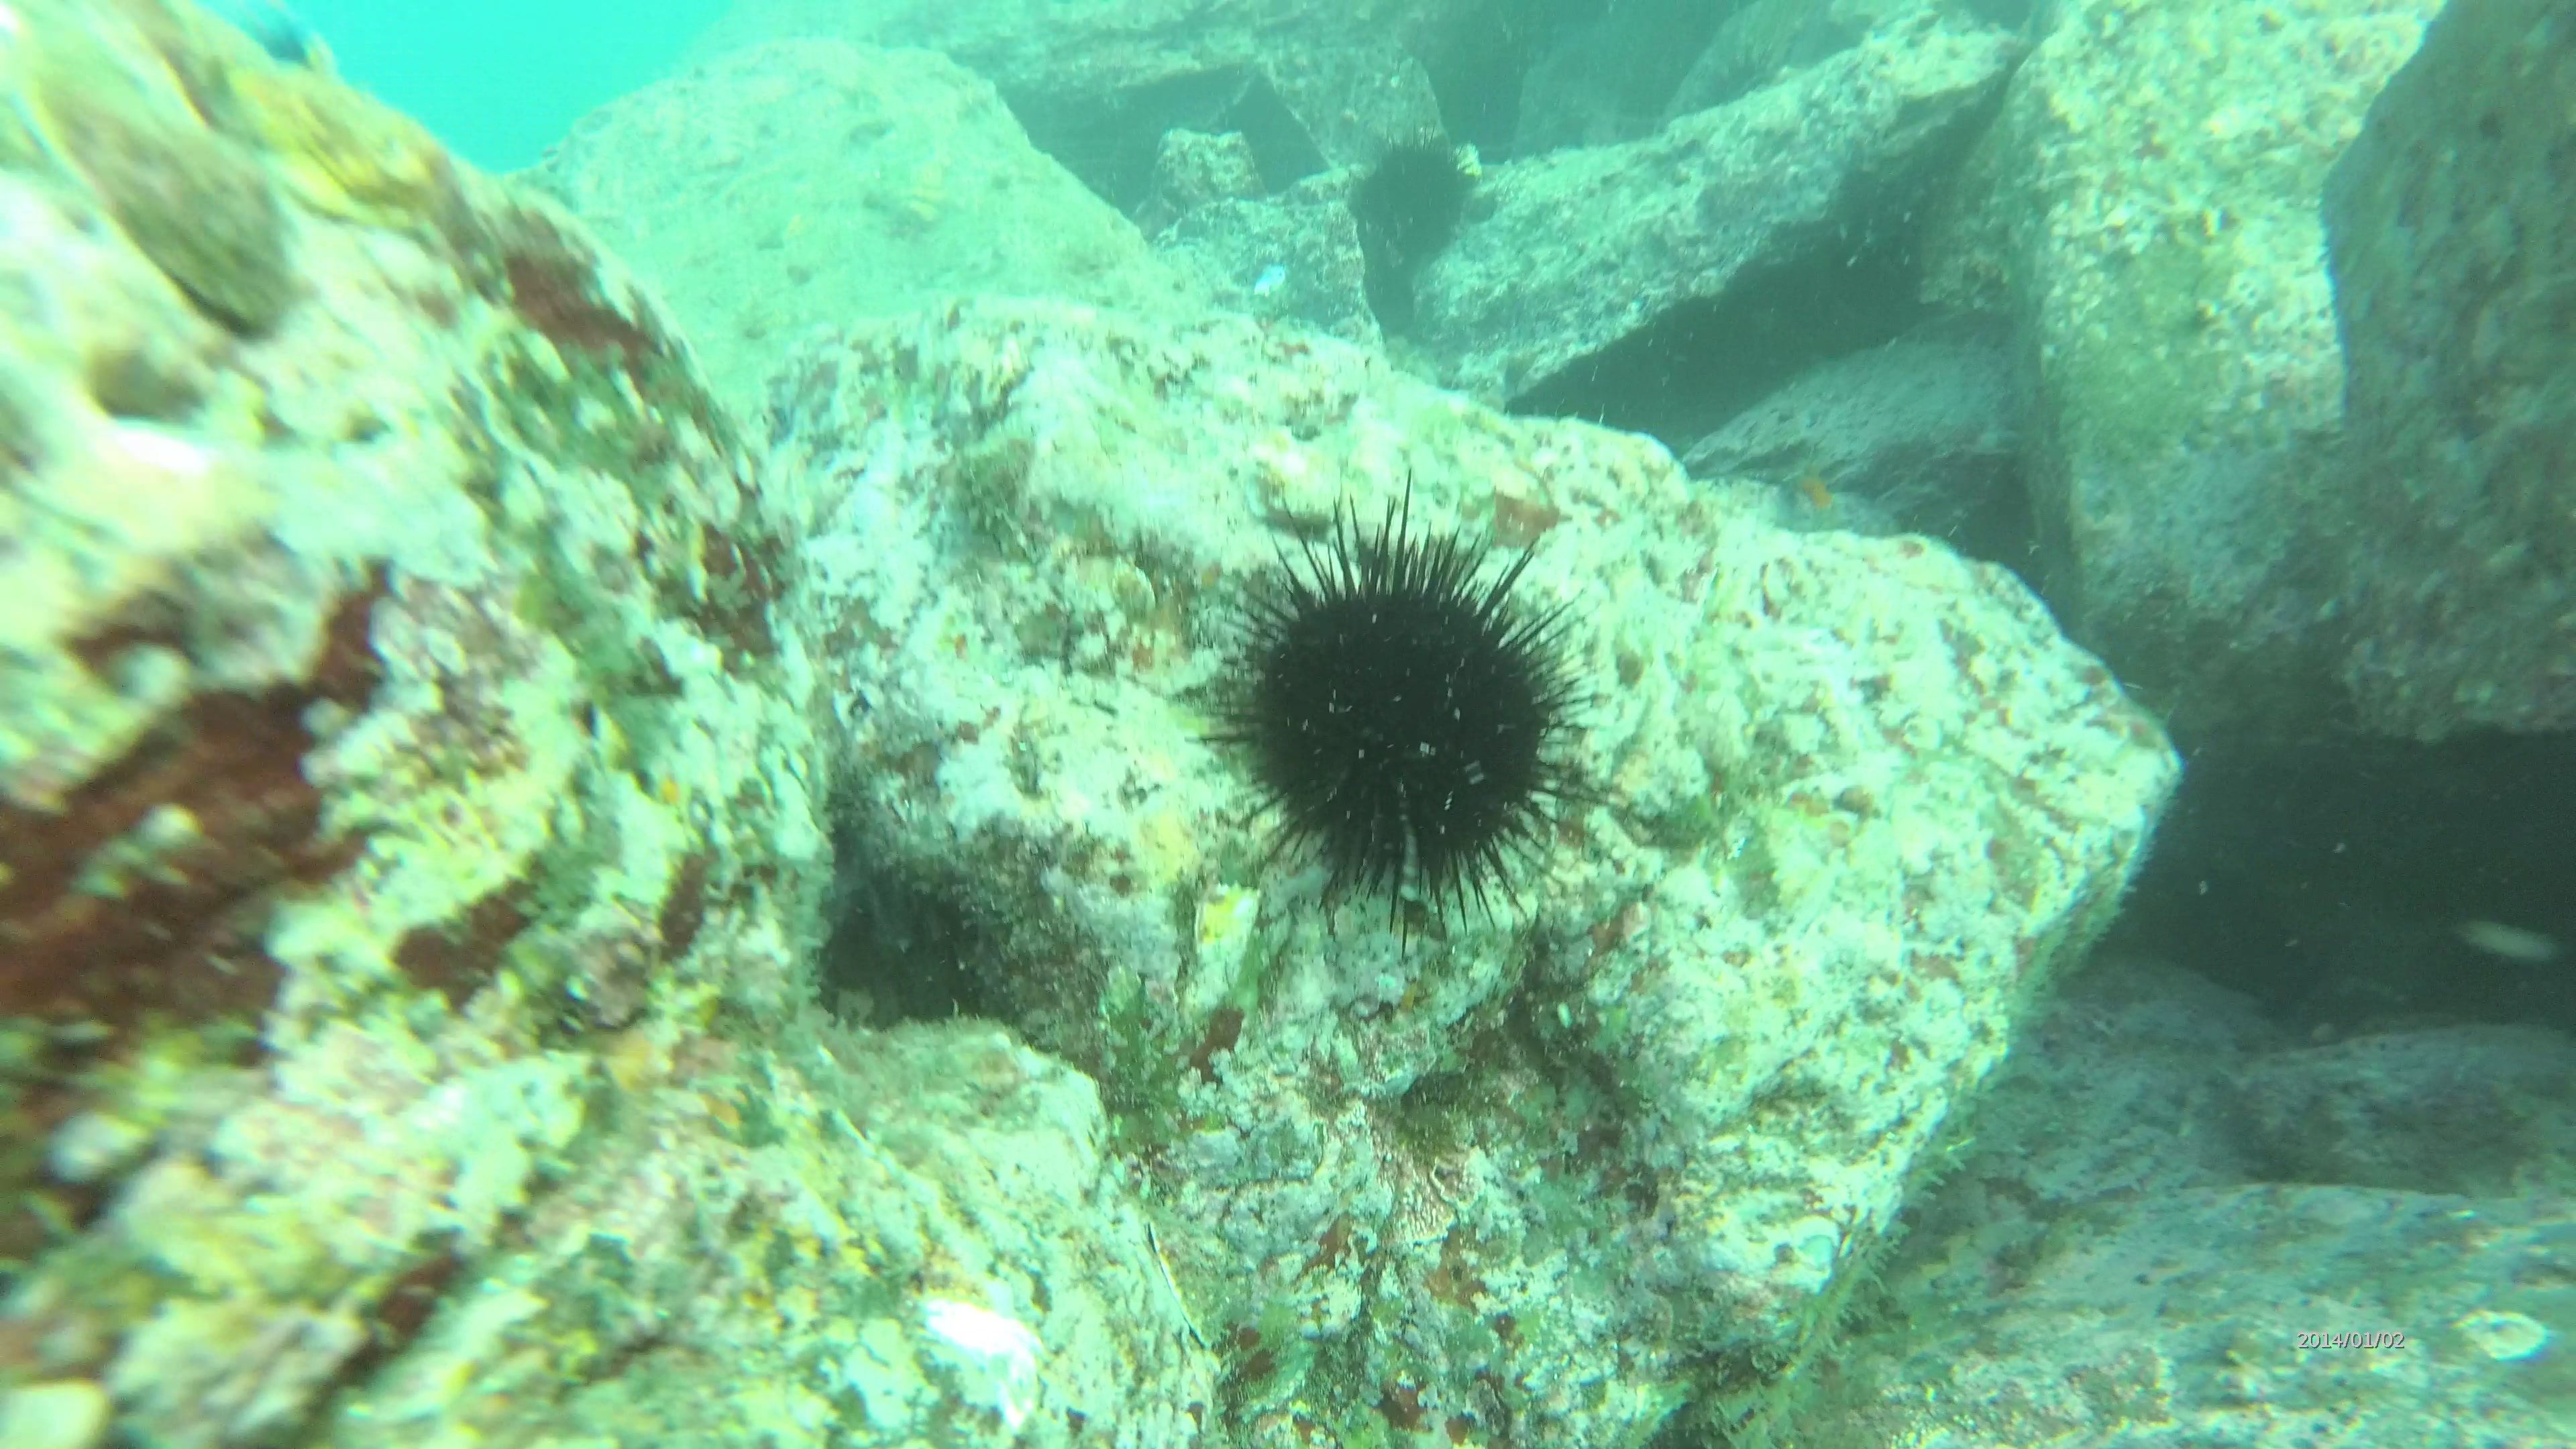echinus: (1171, 462, 1605, 941), (1341, 126, 1486, 272)
starfish: (1771, 464, 1844, 538)
